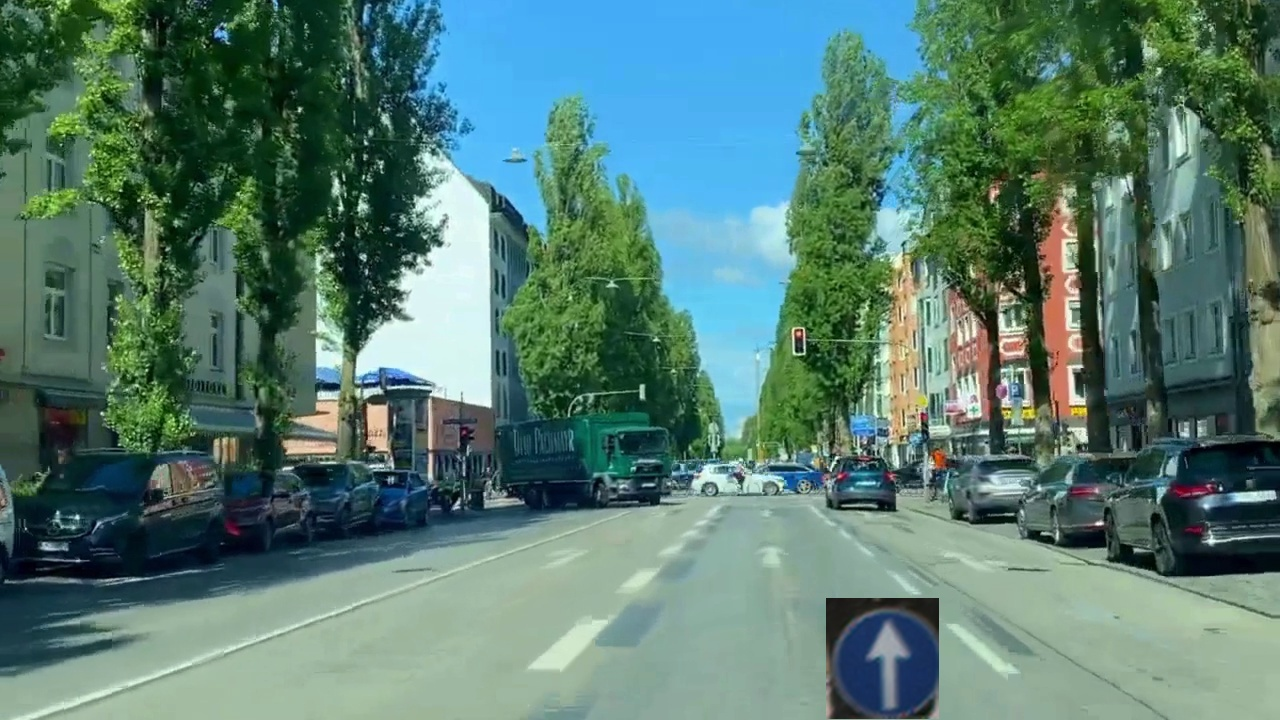Ahead only: (826, 598, 939, 719)
